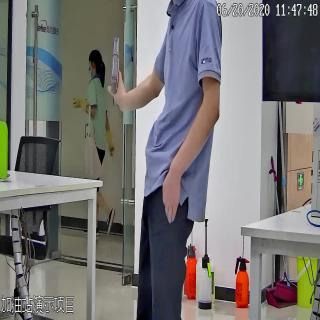gun: (109, 34, 124, 107)
